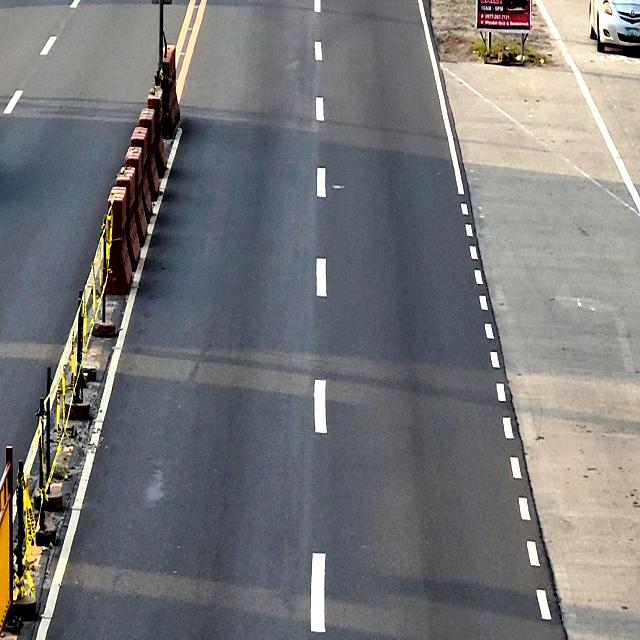Car: (589, 0, 639, 53)
License-Plate: (625, 28, 640, 37)
